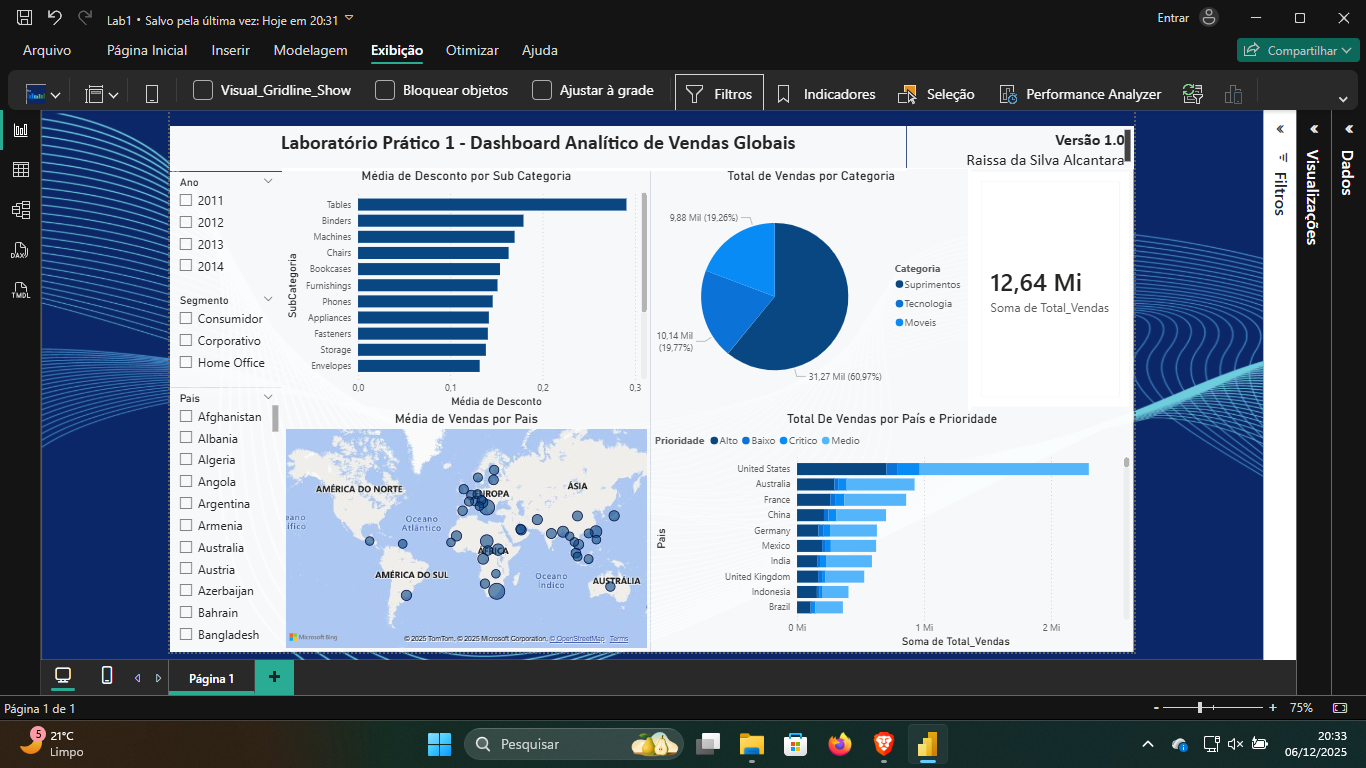

The dashboard page shown, as its layout file describes it:
{"tool":"powerbi","page":{"name":"Lab1","canvas":[1280,720],"ordinal":0},"visuals":[{"type":"cardVisual","fields":{"Data":["Sum(dataset.Total_Vendas)"]},"box":[1042.8,77,237.8,322.8],"z":0},{"type":"pieChart","title":"Total de Vendas por Categoria","fields":{"Category":["fVendas.Categoria"],"Y":["CountNonNull(fVendas.ID_Pedido)"]},"box":[639,77,403.8,322.8],"z":1000},{"type":"barChart","title":"Total De Vendas por País e Prioridade","fields":{"Category":["fVendas.Pais"],"Y":["Sum(fVendas.Total_Vendas)"],"Series":["fVendas.Prioridade"]},"box":[639.3,400.3,640.8,319.7],"z":2000},{"type":"clusteredBarChart","title":"Média de Desconto por Sub Categoria","fields":{"Category":["fVendas.SubCategoria"],"Y":["Avg(fVendas.Desconto)"]},"box":[148.8,77,490.2,302.9],"z":3000},{"type":"map","title":"Média de Vendas por Pais","fields":{"Category":["fVendas.Pais"],"Size":["Avg(fVendas.Total_Vendas)"]},"box":[149.4,400.3,490,319.7],"z":4000},{"type":"slicer","fields":{"Values":["fVendas.Pais"]},"box":[0,369,149.4,351],"z":5000},{"type":"slicer","fields":{"Values":["fVendas.Segmento"]},"box":[0,239,149.4,130],"z":6000},{"type":"slicer","fields":{"Values":["fVendas.Data_Pedido.Variation.Hierarquia de datas.Ano"]},"box":[0,82.2,149.4,156.8],"z":7000},{"type":"textbox","box":[0,20.9,978.4,59.8],"z":7001},{"type":"textbox","box":[978.4,20.9,301.7,56.8],"z":7002}]}

Visuals, with their boxes on the page's 1280x720 design canvas (x1, y1, x2, y2). These are canvas units, not pixel positions in the 1366x768 screenshot, which may show the page scaled, cropped or inside an application window:
cardVisual - Sum(dataset.Total_Vendas): (left=1043, top=77, right=1281, bottom=400)
"Total de Vendas por Categoria" pieChart: (left=639, top=77, right=1043, bottom=400)
"Total De Vendas por País e Prioridade" barChart: (left=639, top=400, right=1280, bottom=720)
"Média de Desconto por Sub Categoria" clusteredBarChart: (left=149, top=77, right=639, bottom=380)
"Média de Vendas por Pais" map: (left=149, top=400, right=639, bottom=720)
slicer - fVendas.Pais: (left=0, top=369, right=149, bottom=720)
slicer - fVendas.Segmento: (left=0, top=239, right=149, bottom=369)
slicer - fVendas.Data_Pedido.Variation.Hierarquia de datas.Ano: (left=0, top=82, right=149, bottom=239)
textbox: (left=0, top=21, right=978, bottom=81)
textbox: (left=978, top=21, right=1280, bottom=78)
